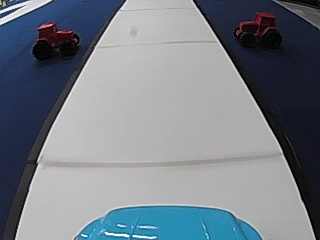tractor: (30, 19, 80, 60), (231, 9, 281, 49)
